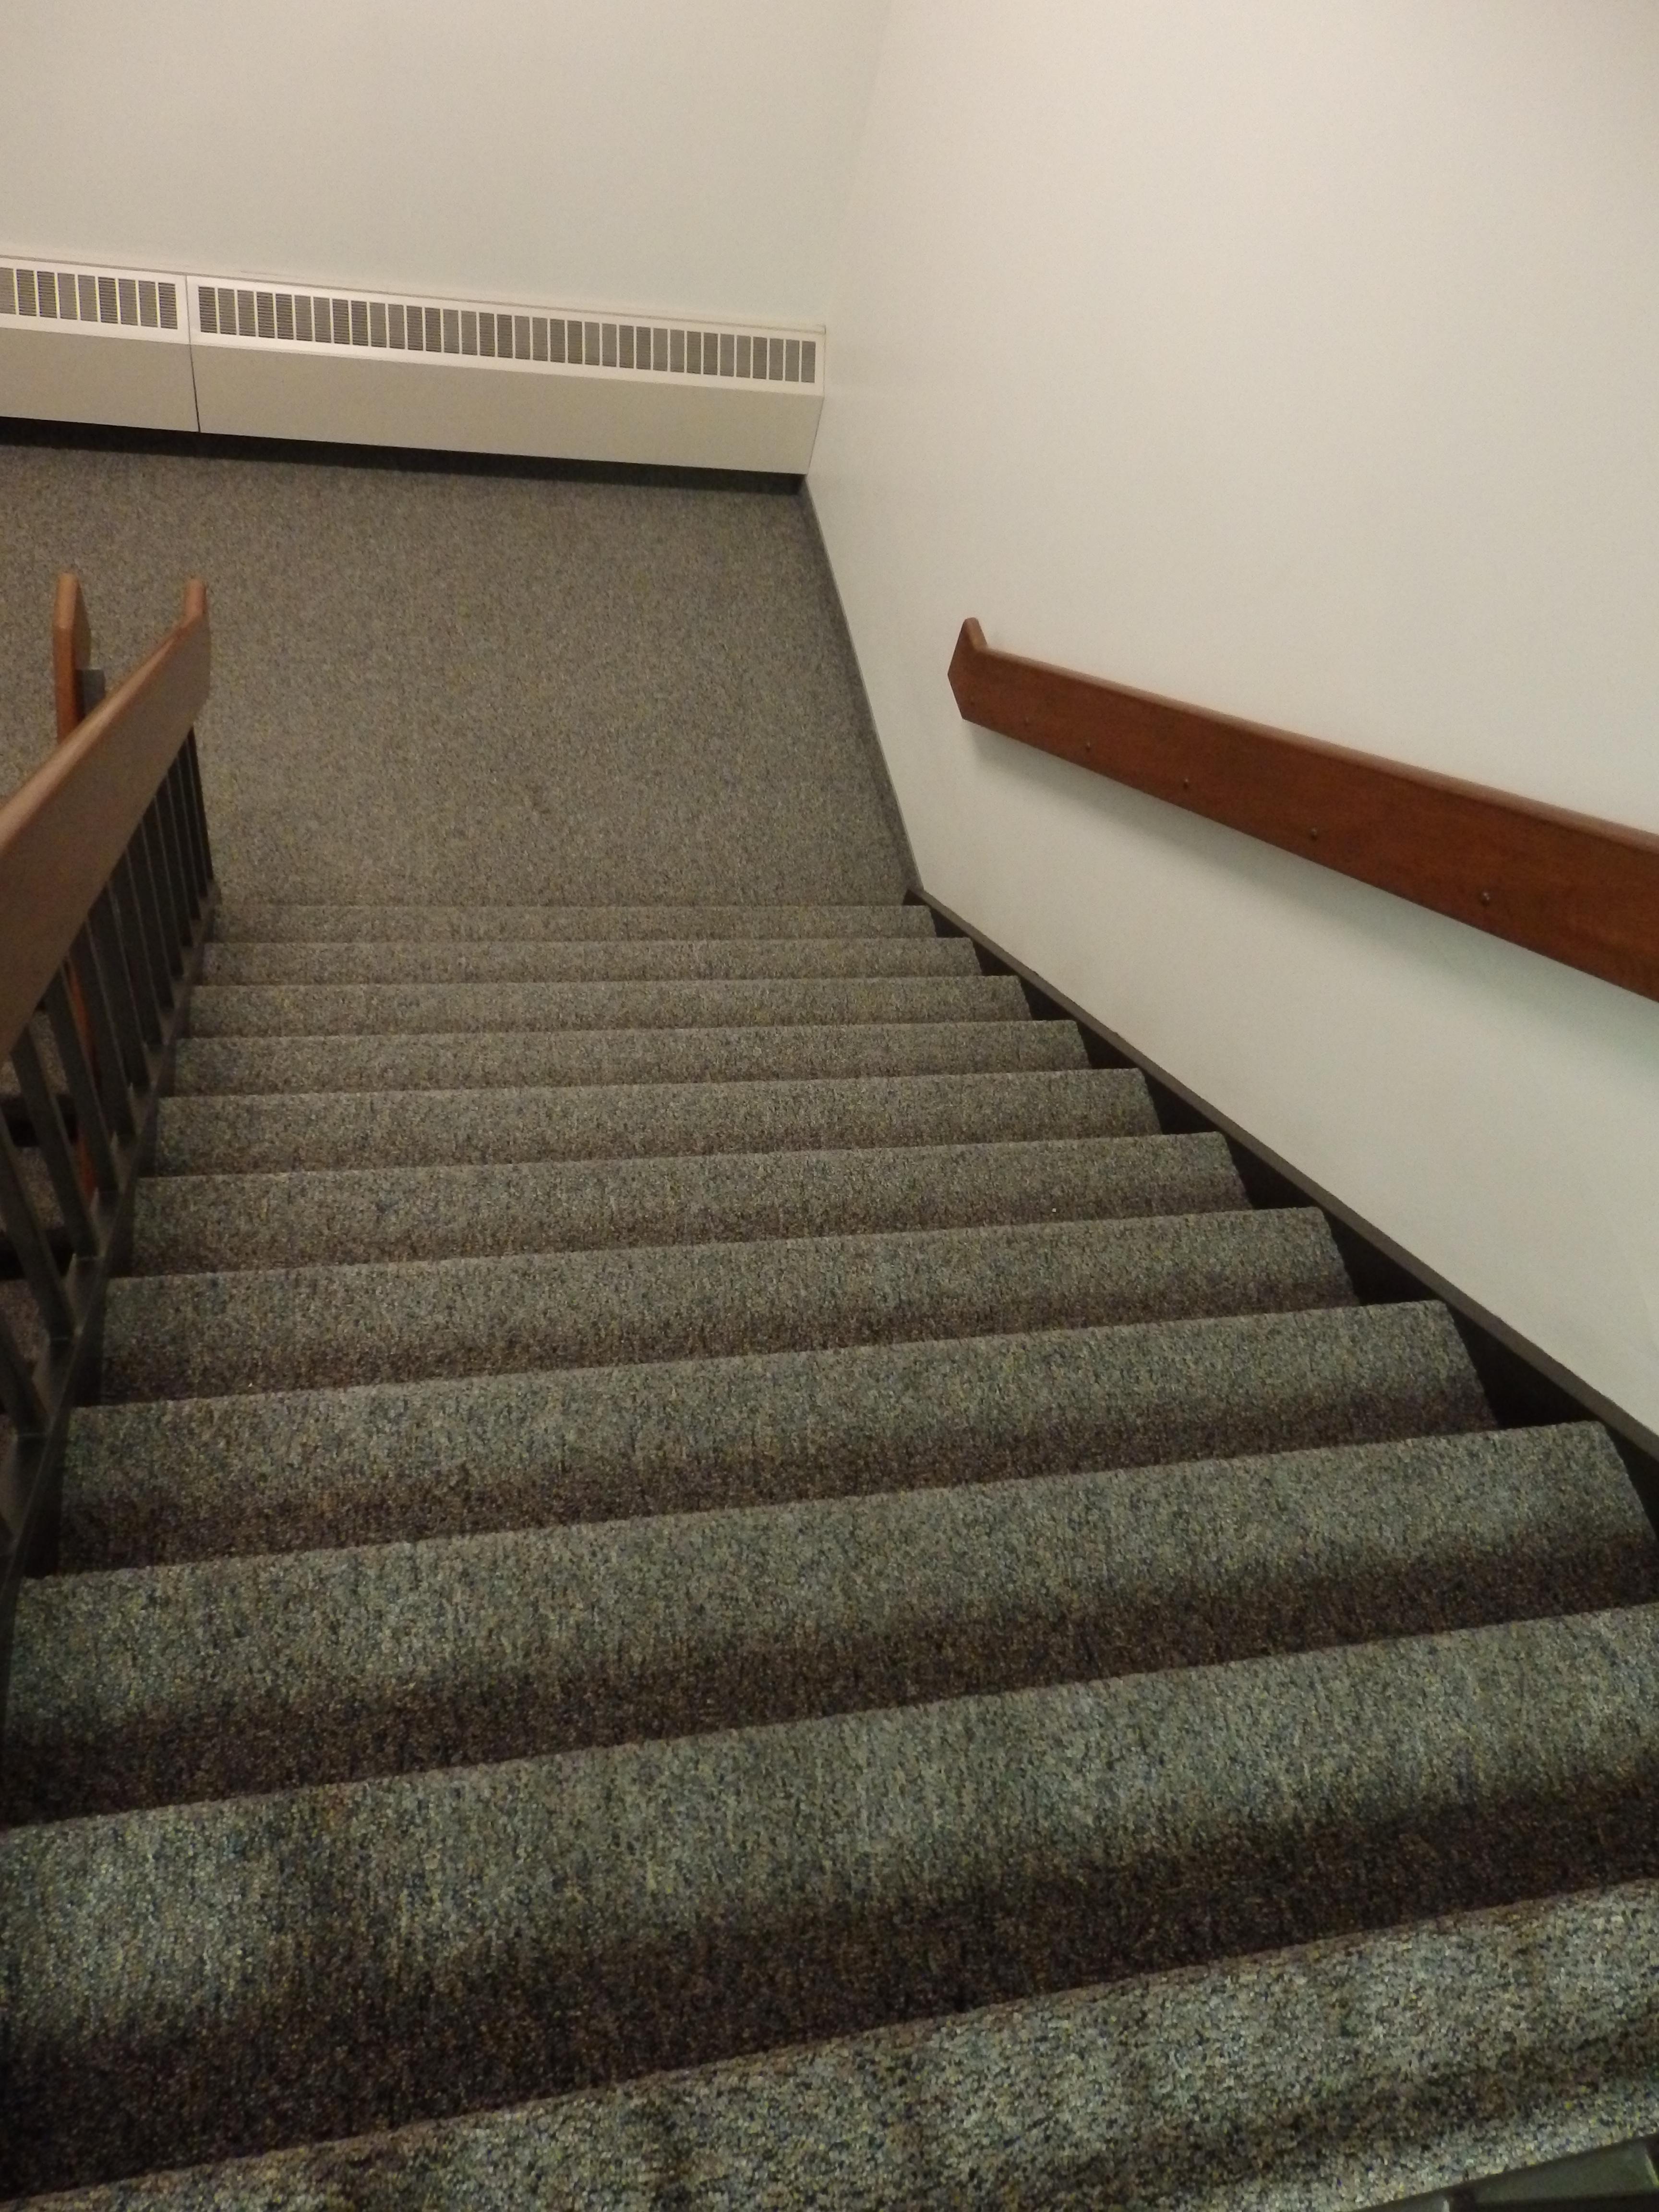stairs_down: (176, 883, 1593, 2184)
